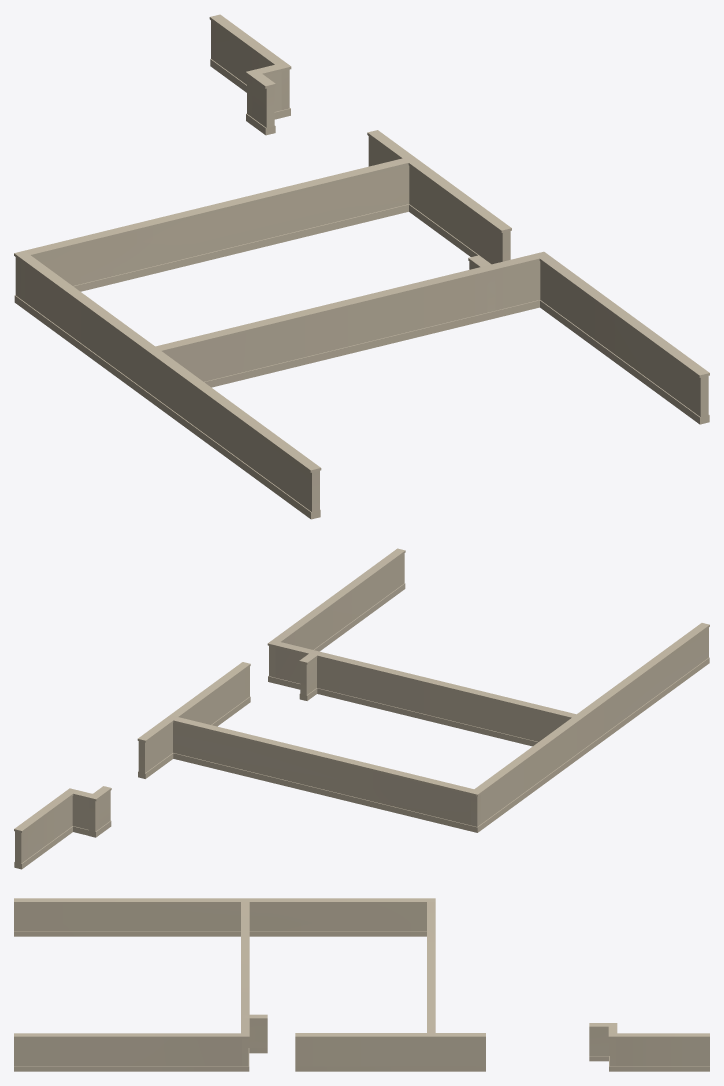
Rendered from fences.fbx.
3 renders of one model, top to bottom at view 1: azimuth 30°, elevation 25°; view 2: azimuth 150°, elevation 25°; view 3: azimuth 270°, elevation 25°, orthographic. The views are drawn at different scales.
Visible parts, largest first — view 1: pCube89, pCube79, pCube81, pCube85, pCube91, pCube90; view 2: pCube89, pCube79, pCube81, pCube85, pCube91, pCube90, pCube86; view 3: pCube81, pCube89, pCube85, pCube91, pCube79, pCube90, pCube86.
Part boxes in pixels (box(x1,y1,x2,y2)): pCube89: box(152, 251, 709, 424); pCube79: box(15, 156, 417, 298); pCube81: box(14, 250, 321, 519); pCube85: box(367, 130, 511, 264); pCube91: box(209, 14, 291, 119); pCube90: box(245, 69, 275, 135); pCube89: box(267, 548, 576, 746); pCube79: box(167, 715, 480, 832); pCube81: box(470, 623, 709, 832); pCube85: box(137, 662, 250, 778); pCube91: box(14, 788, 99, 869); pCube90: box(88, 786, 111, 837); pCube86: box(299, 650, 320, 700); pCube81: box(14, 898, 435, 936); pCube89: box(14, 902, 249, 1071); pCube85: box(295, 1033, 485, 1071); pCube91: box(608, 1023, 709, 1071); pCube79: box(427, 900, 435, 1036); pCube90: box(589, 1023, 617, 1061); pCube86: box(242, 1014, 267, 1053).
Bounding box in the file's own units: 110 × 12.94 × 234.
1 material, 1 textured.
